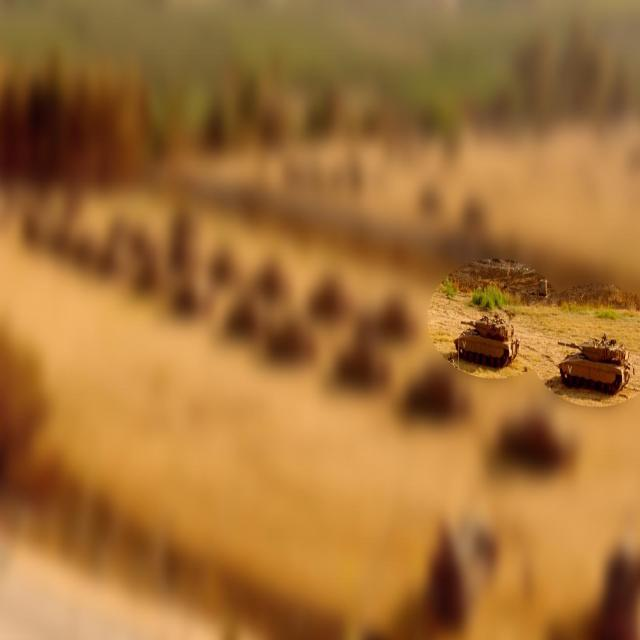tank: (558, 335, 632, 396), (453, 312, 521, 372)
